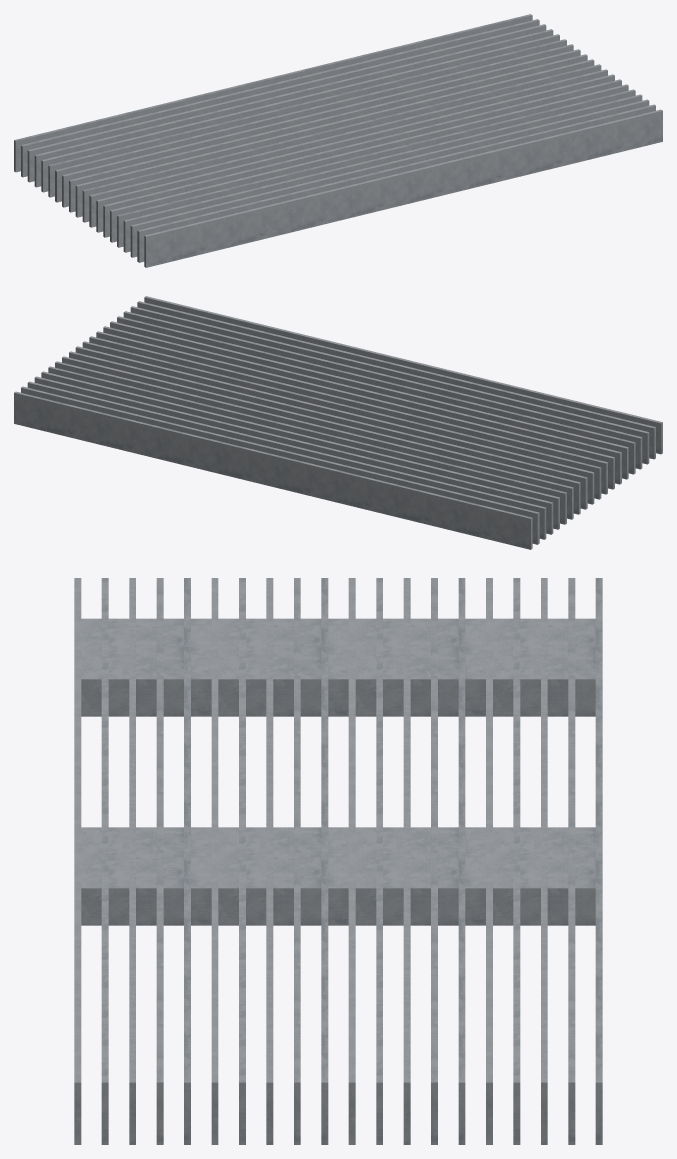
Rendered from Heat-Sink-8.7-0.5-3.85.obj.
3 renders of one model, top to bottom at view 1: azimuth 30°, elevation 25°; view 2: azimuth 150°, elevation 25°; view 3: azimuth 270°, elevation 25°, orthographic. The views are drawn at different scales.
Parts seen in each view (by area): view 1: Heat-Sink-8.7-0.5-3.85; view 2: Heat-Sink-8.7-0.5-3.85; view 3: Heat-Sink-8.7-0.5-3.85.
Boxes of the visible parts, left/top/right/bottom form: Heat-Sink-8.7-0.5-3.85: left=14, top=14, right=662, bottom=267; Heat-Sink-8.7-0.5-3.85: left=14, top=296, right=662, bottom=549; Heat-Sink-8.7-0.5-3.85: left=74, top=578, right=602, bottom=1144.
Size of the model in its own units: 8.7 by 0.5 by 3.85.
